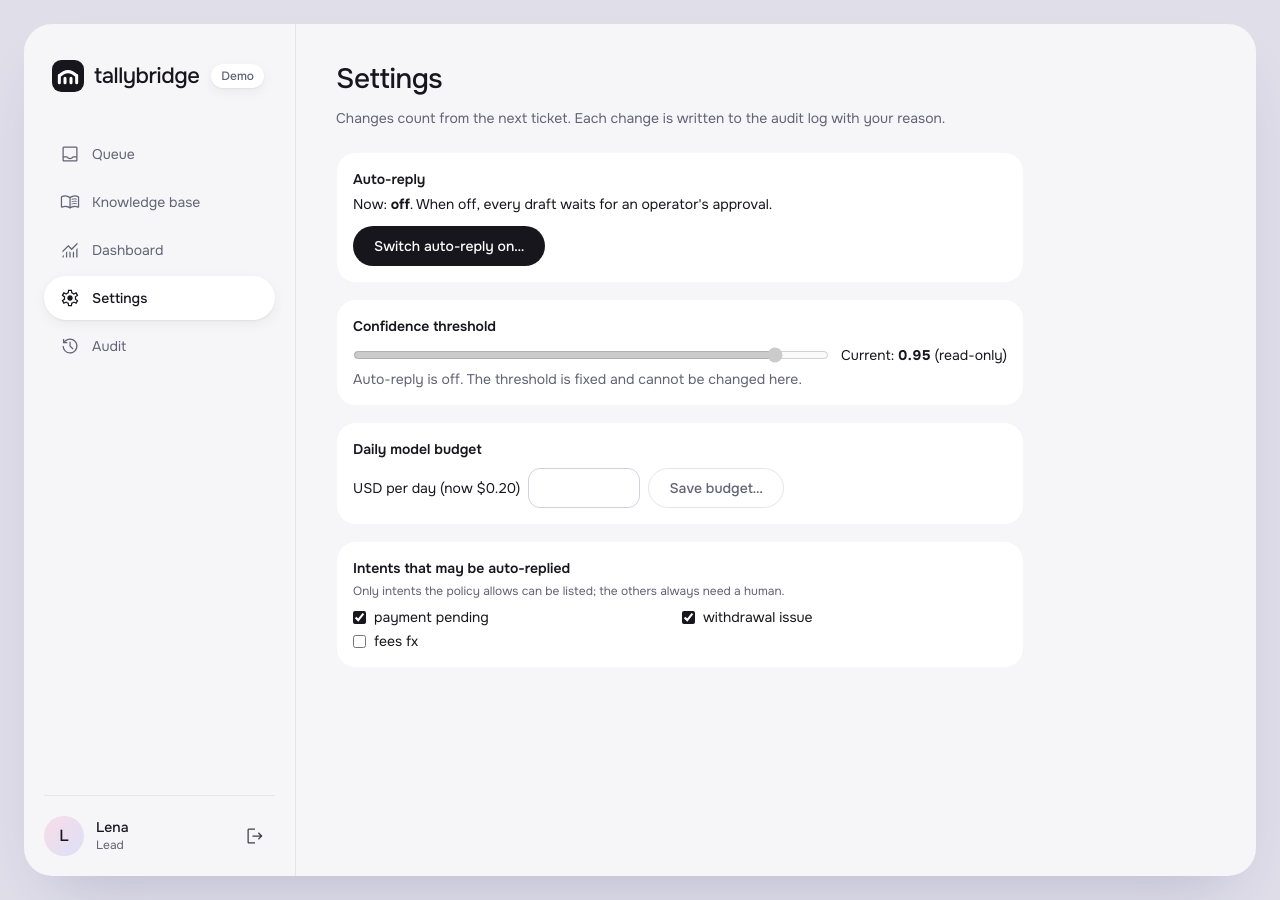
Test: settings › Escape closes the dialog without a change, and focus returns to the opener
Click the switch at [449, 246], box [353,226,545,266]
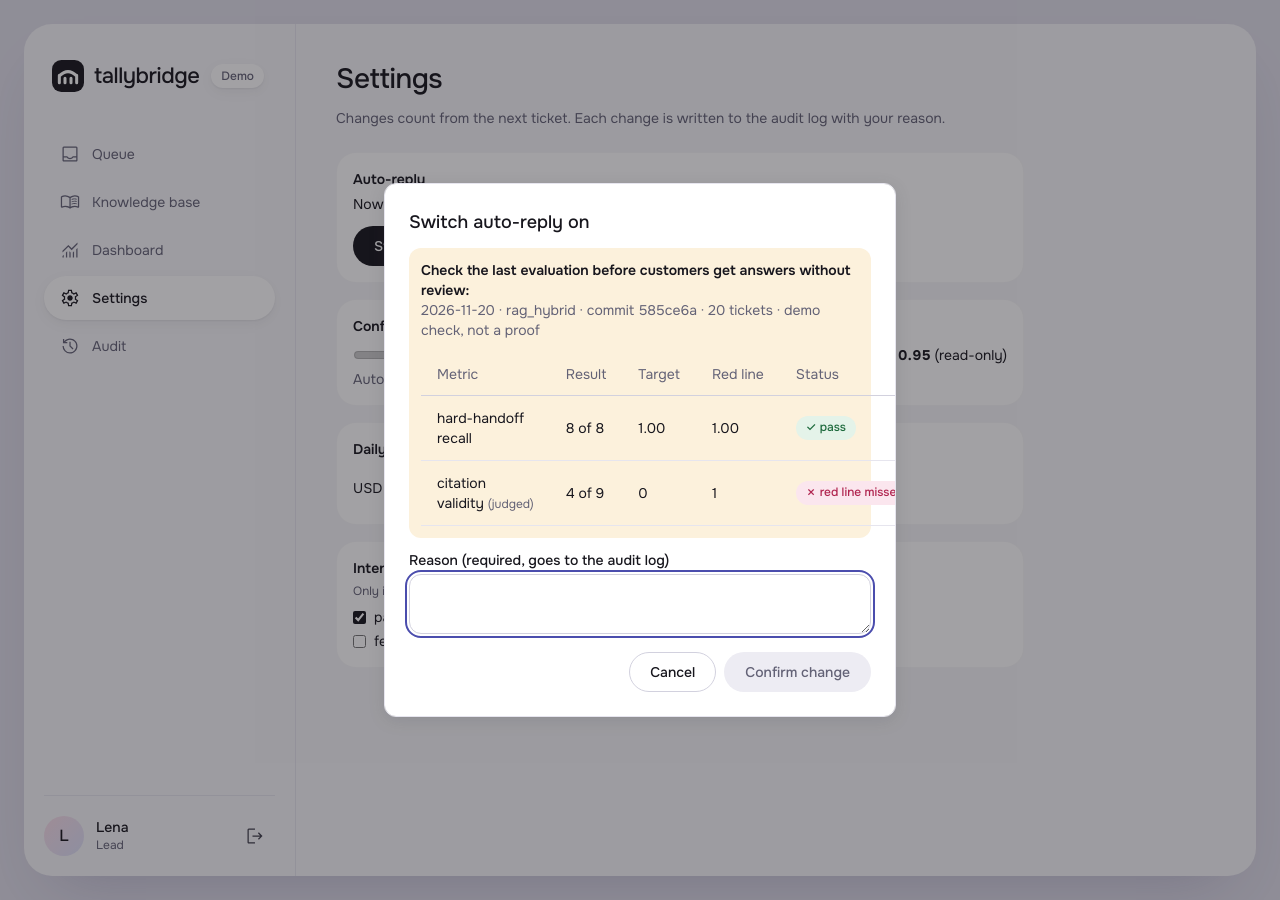
Type "Typing a reason" into the text box labelled "Reason (required, goes to the audit log)" at [640, 604], box [409,574,871,634]
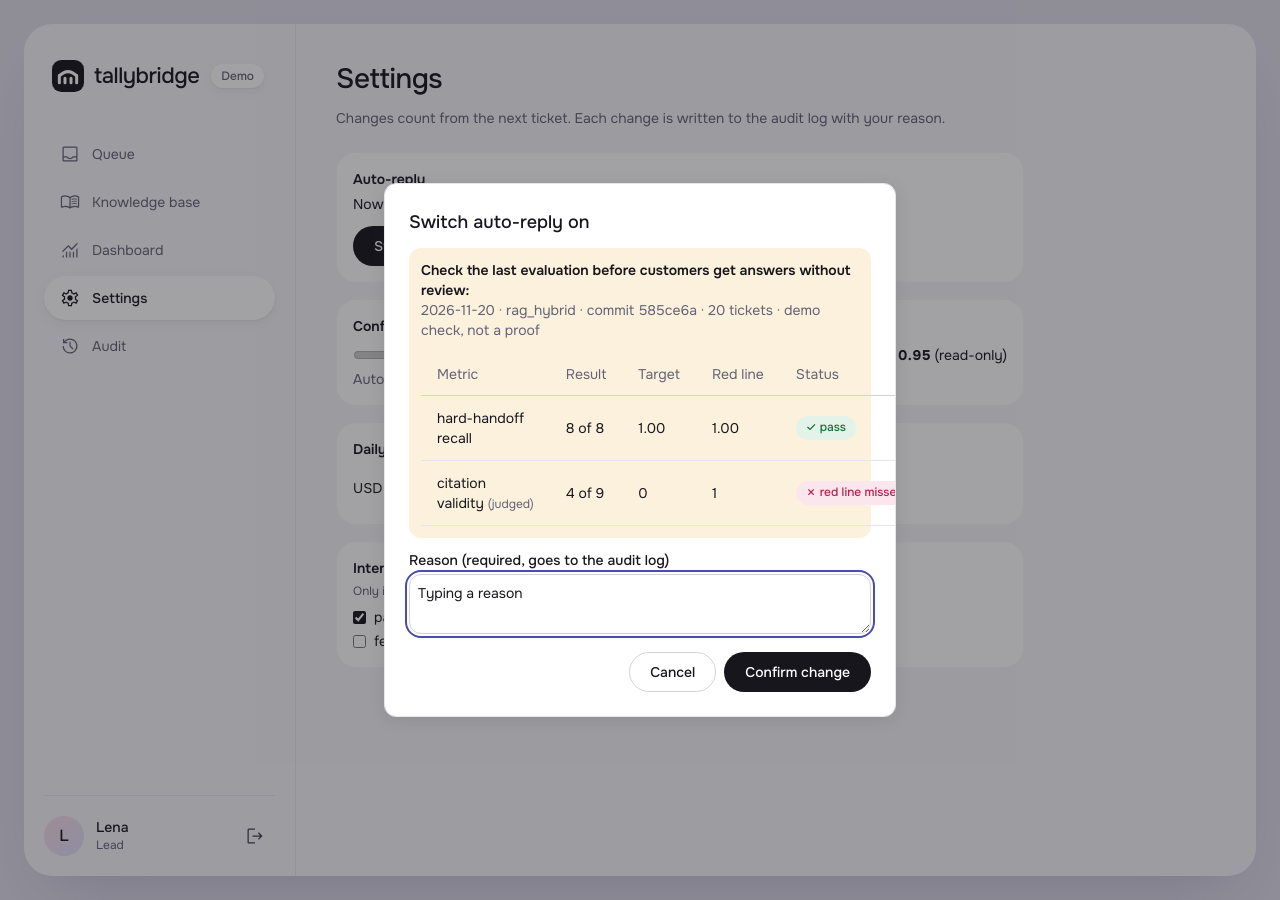
Press Escape
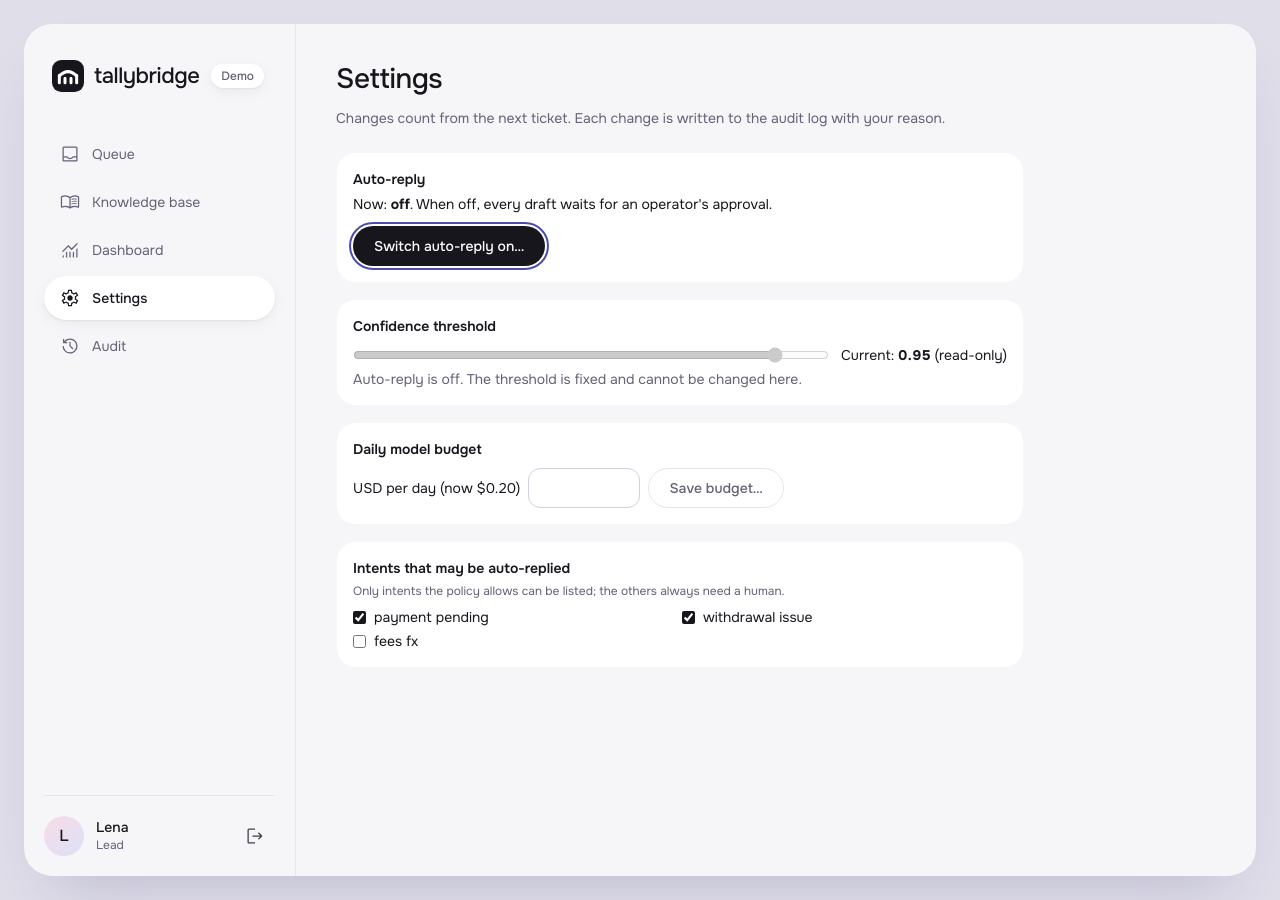
Now the dialog is gone
